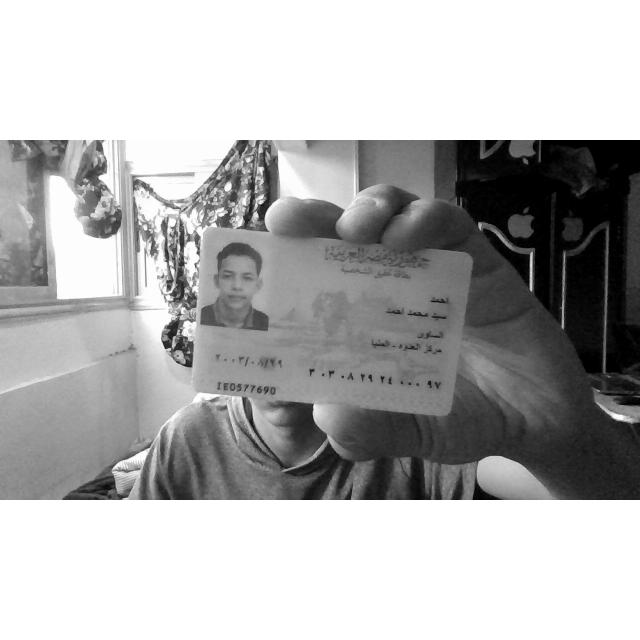id_card: (192, 228, 472, 416)
